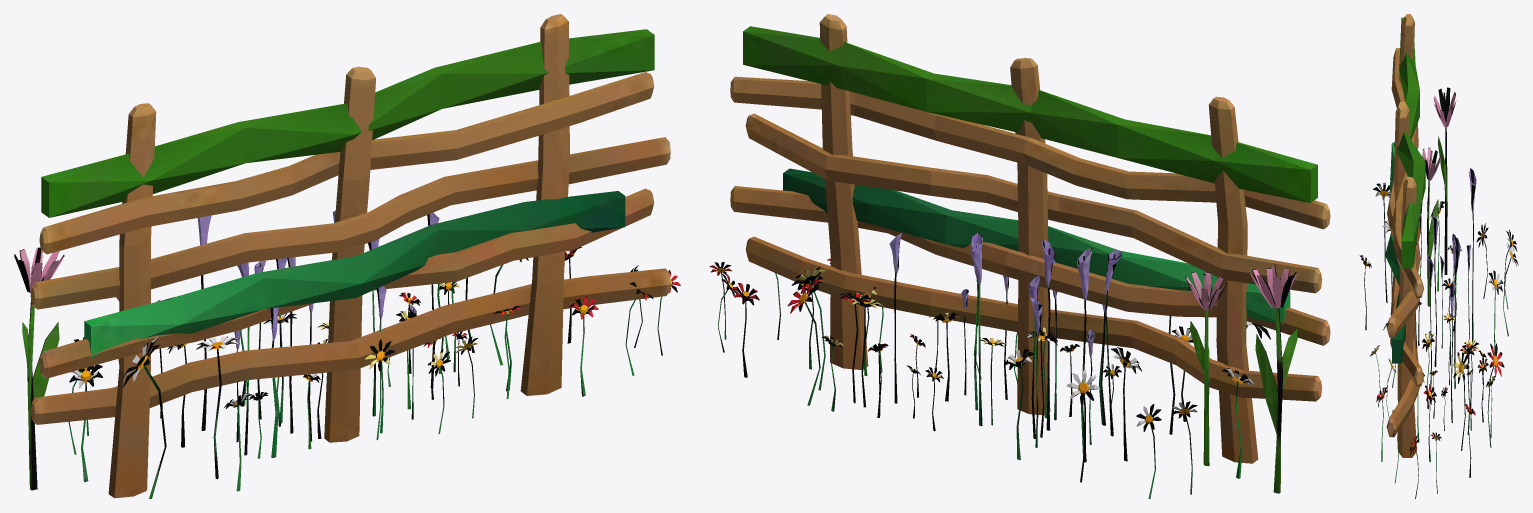
The model's file is fence_flower_lattice.glb.
3 renders of one model, left to right at view 1: azimuth 30°, elevation 25°; view 2: azimuth 150°, elevation 25°; view 3: azimuth 270°, elevation 25°, orthographic. The views are drawn at different scales.
Visible parts, largest first — view 1: fence_flower_lattice; view 2: fence_flower_lattice; view 3: fence_flower_lattice.
Boxes of the visible parts, x1,y1,x2,y2 form: fence_flower_lattice: (14, 14, 680, 498); fence_flower_lattice: (709, 14, 1330, 498); fence_flower_lattice: (1359, 14, 1518, 498).
Size of the model in its own units: 1.07 by 0.6 by 0.3.
1 material, 1 textured.
